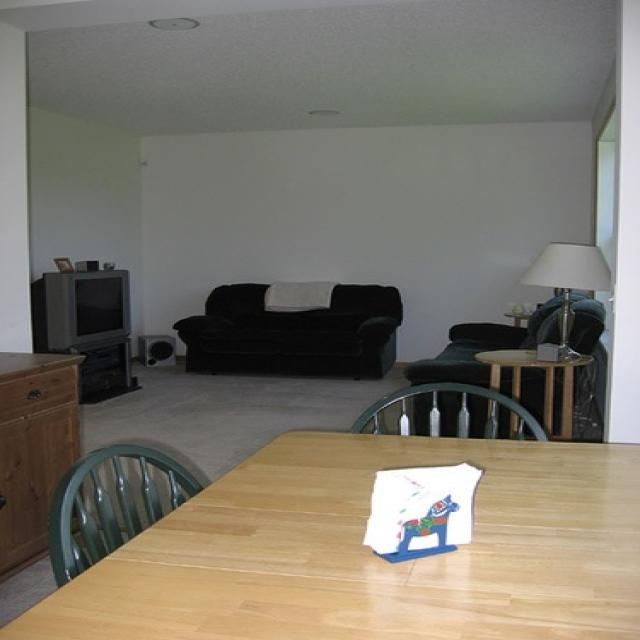chair: (48, 444, 206, 588), (346, 383, 548, 443)
diningtable: (5, 428, 638, 638)
sofa: (408, 292, 606, 436), (170, 282, 404, 380)
tvmonitor: (36, 269, 133, 351)
